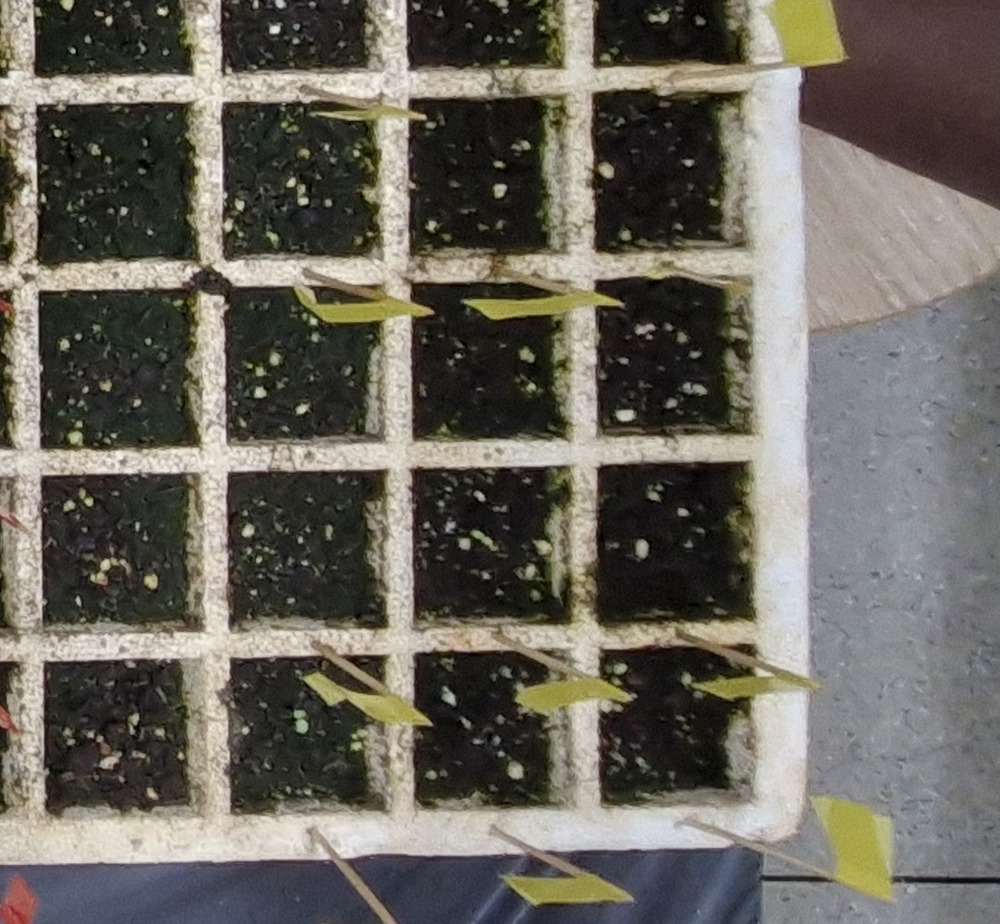Folha: (297, 719, 308, 733), (293, 710, 305, 719), (481, 536, 492, 545)
Germinacao: (294, 710, 308, 733), (473, 531, 492, 544)
